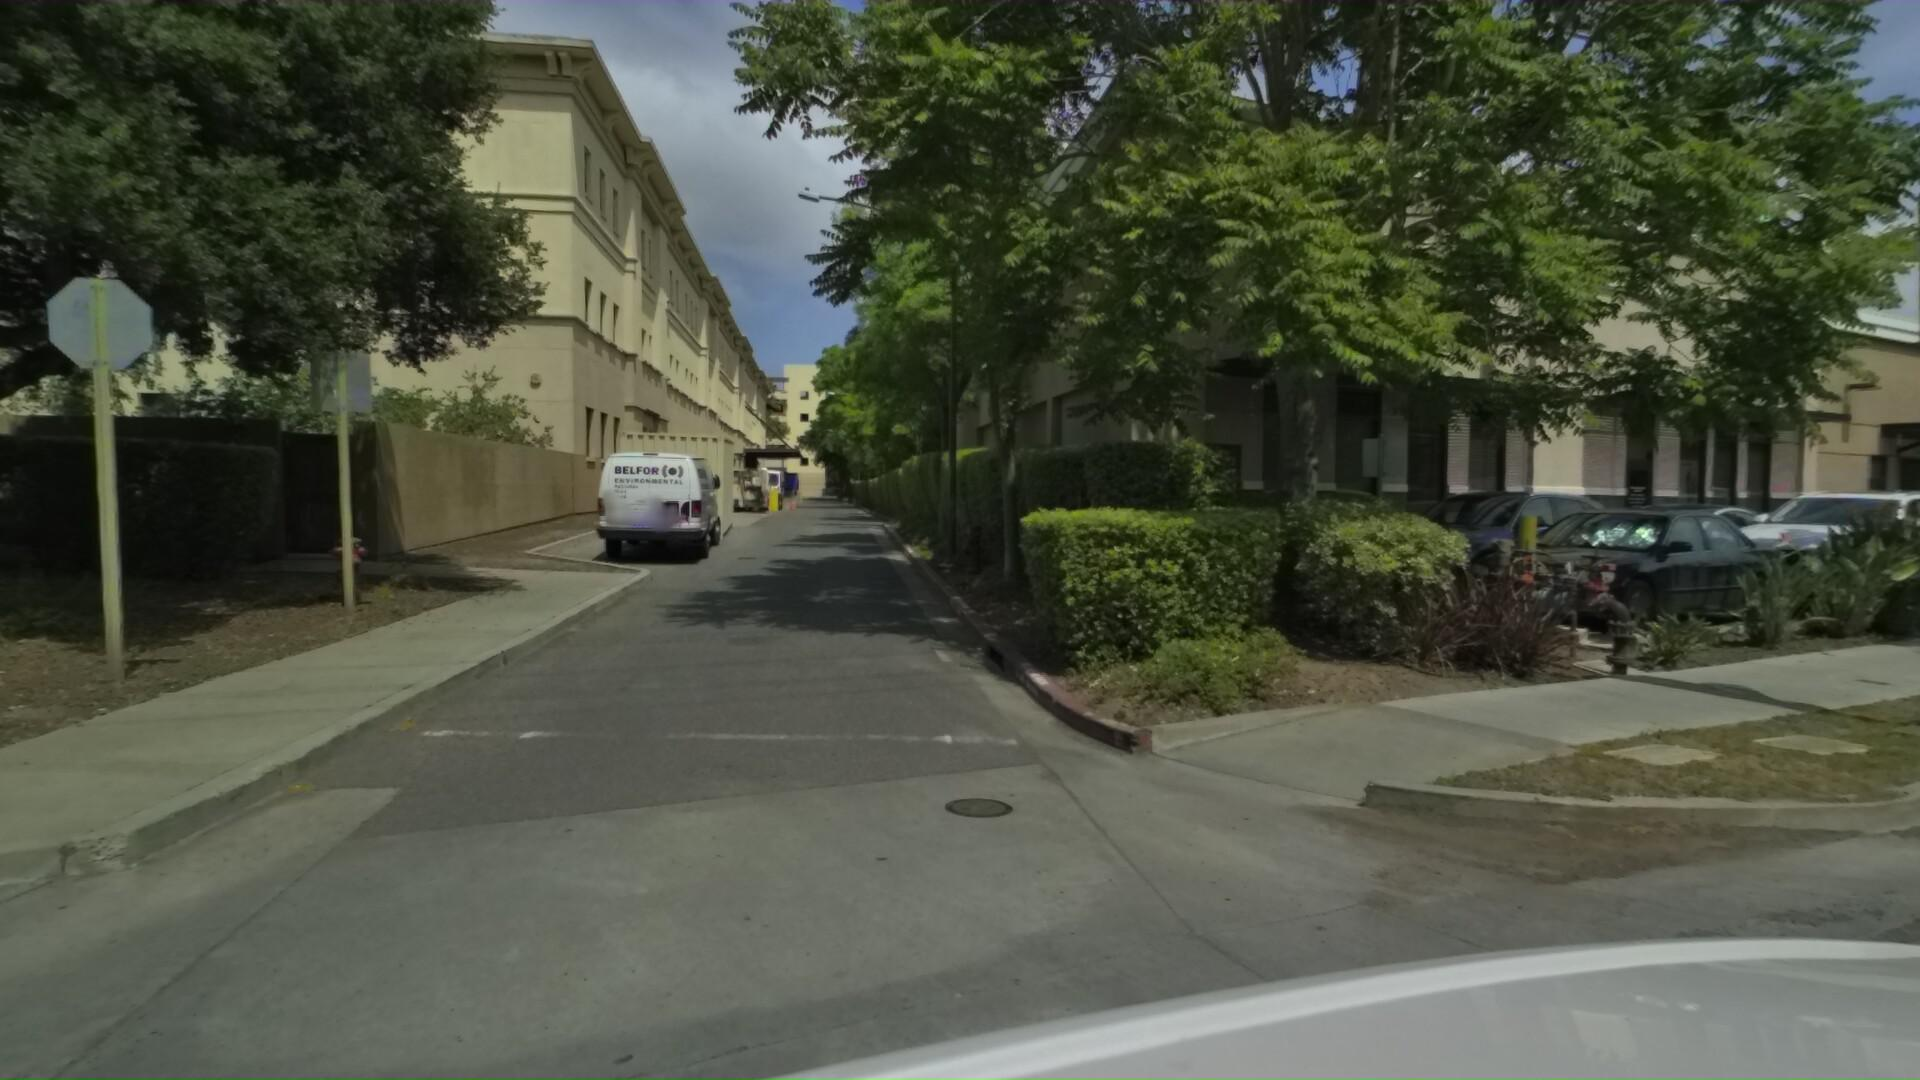car: (1462, 495, 1828, 640), (1354, 477, 1654, 607), (1708, 477, 1920, 615), (1571, 491, 1818, 593), (613, 440, 742, 558)
